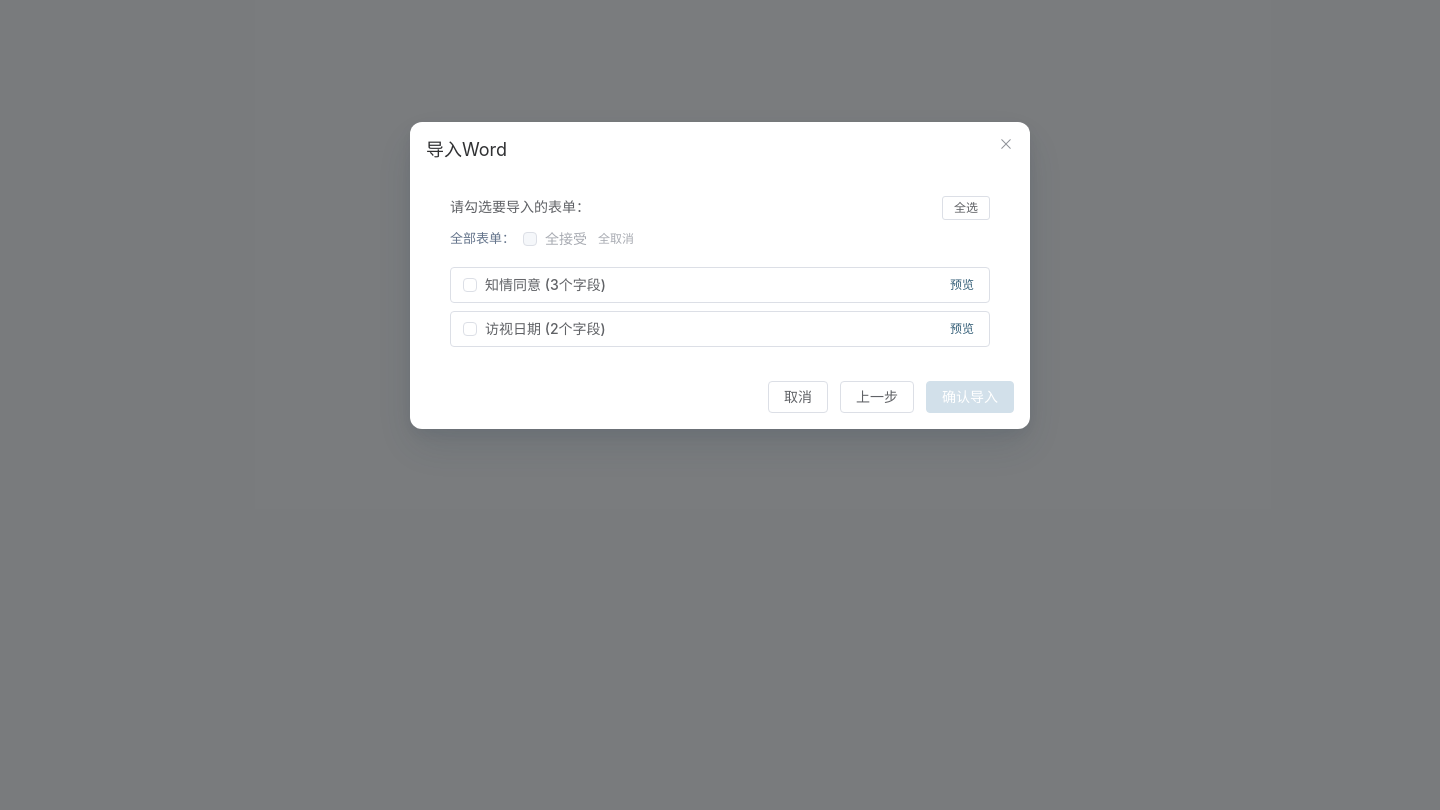
Test: WordImportDialog › 导入成功进入第 3 步、清空缓存并递增 refreshKey
This screenshot has width=1440, height=810.
Click the button "全选" at [966, 208], box [942, 196, 990, 220]
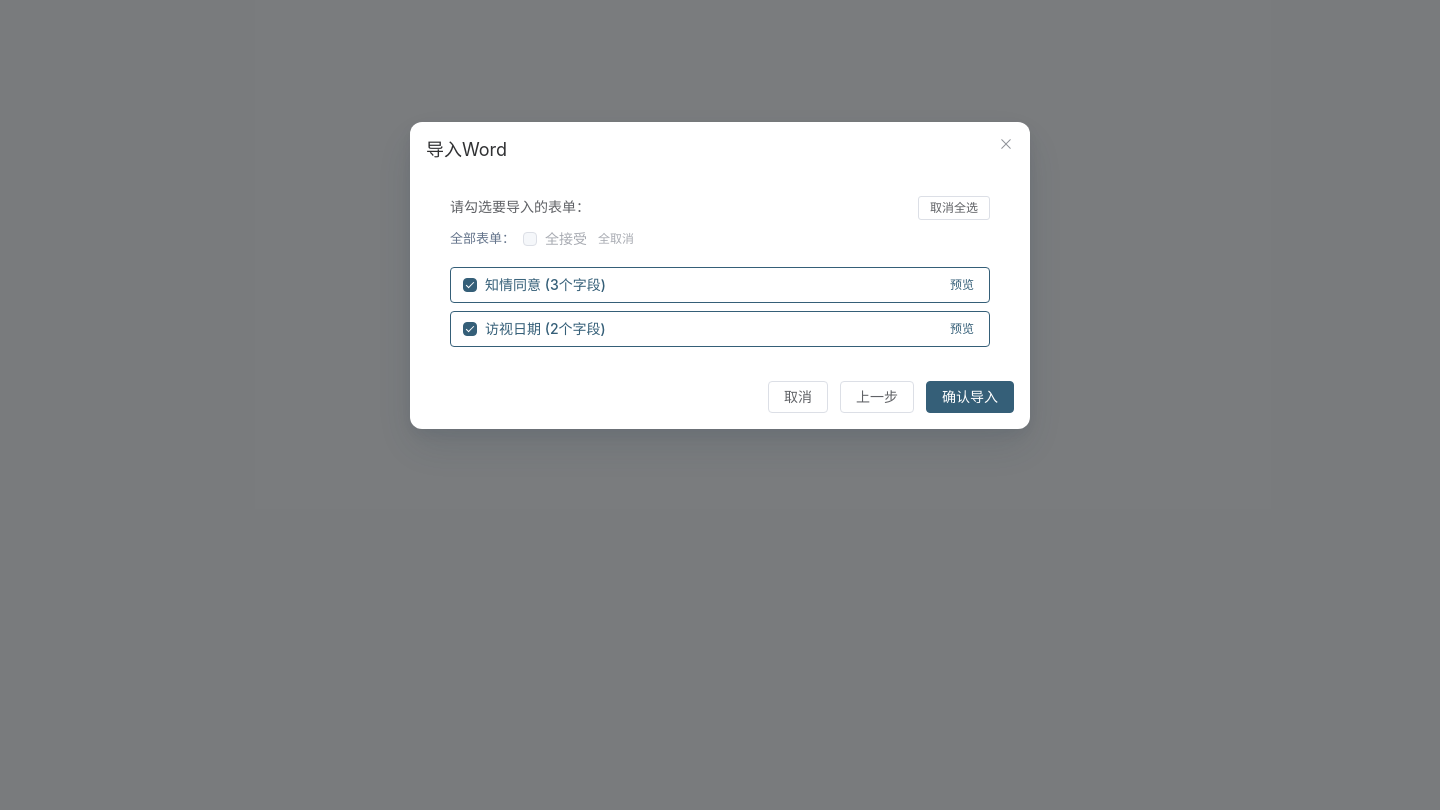
Click the button "确认导入" at [970, 396], box [926, 380, 1014, 412]
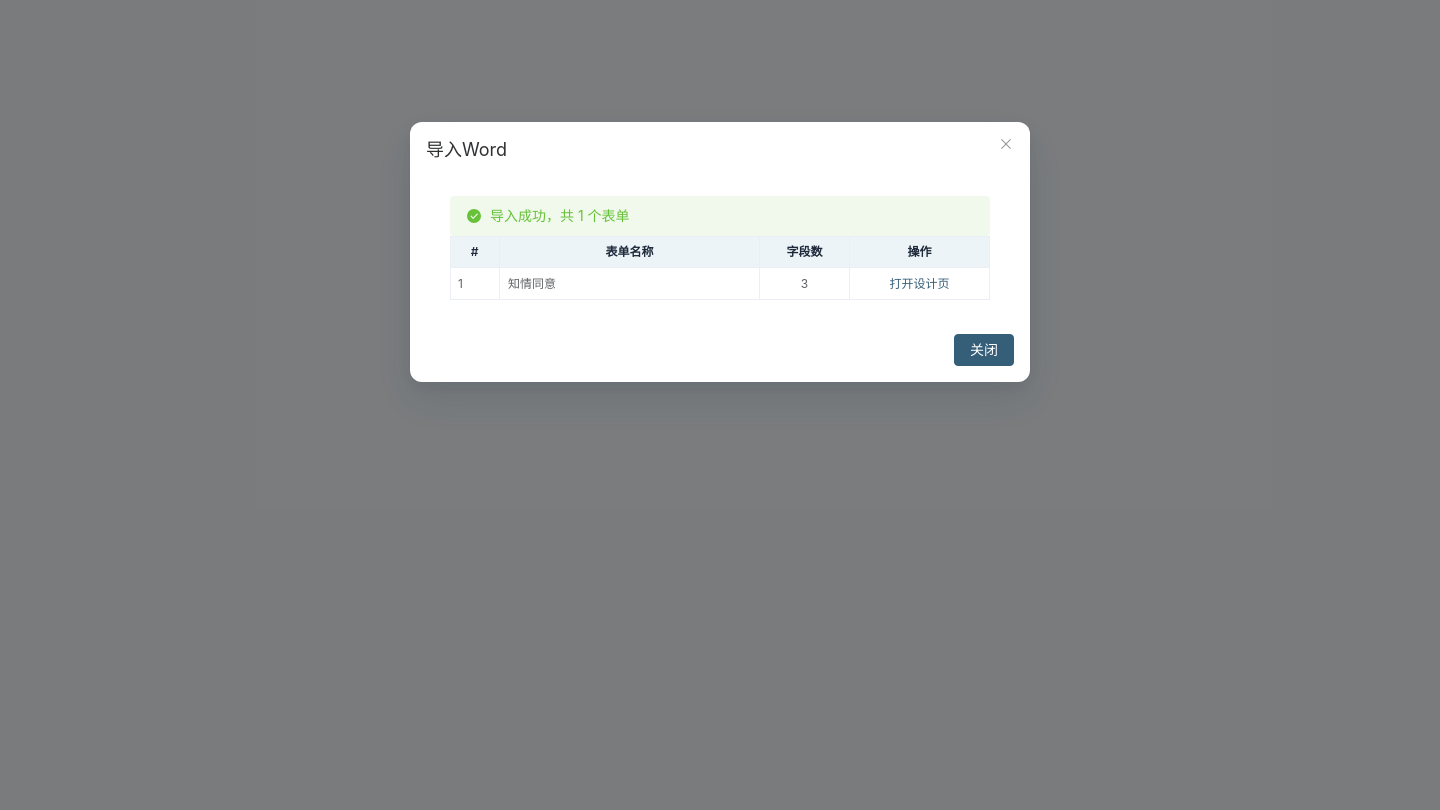
Result: the text "导入成功，共 1 个表单" is shown at [490, 204, 630, 228]
